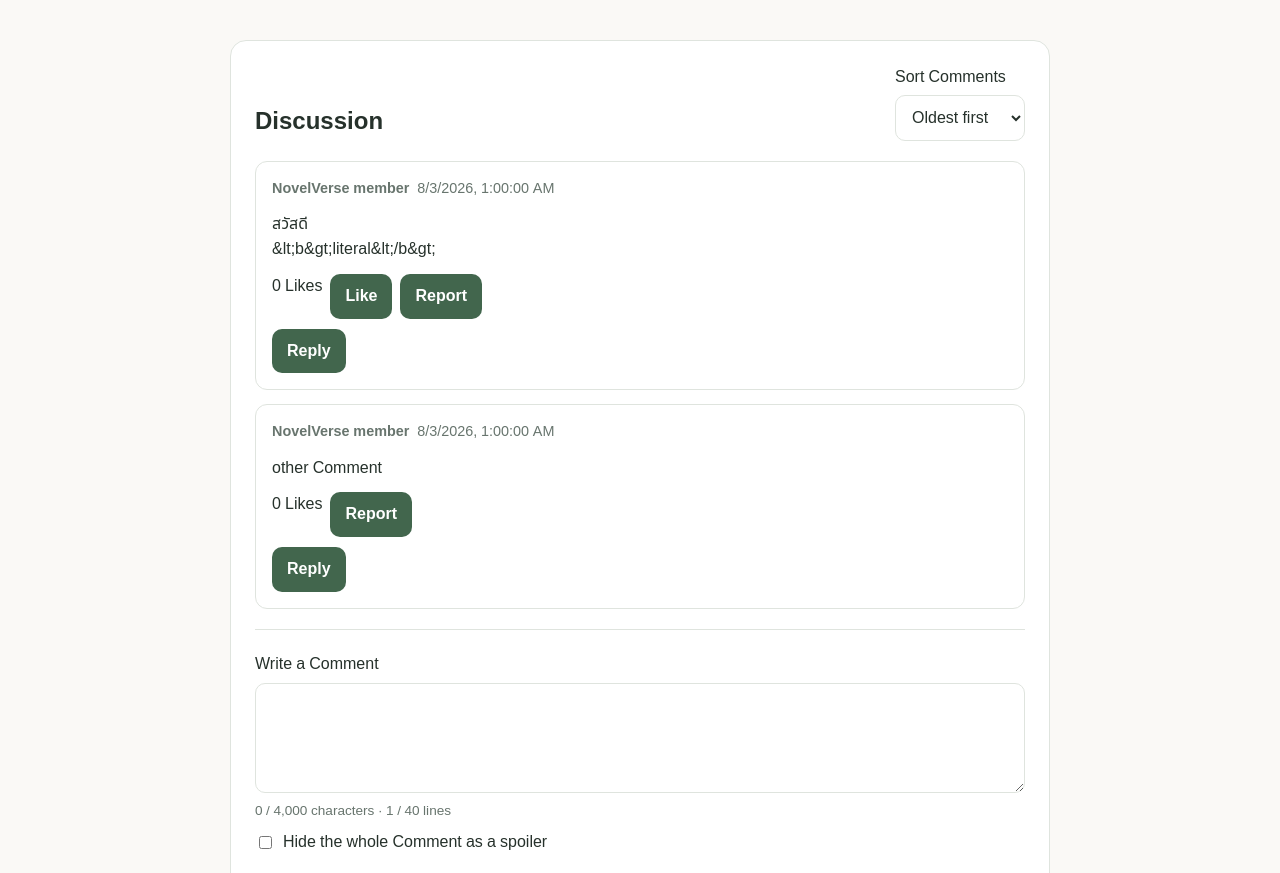
Test: session request isolation › lets an unrelated report finish without invalidating an in-flight Like
Click the button with aria-label "Like Comment".
click(361, 296)  # box [330,274,392,318]
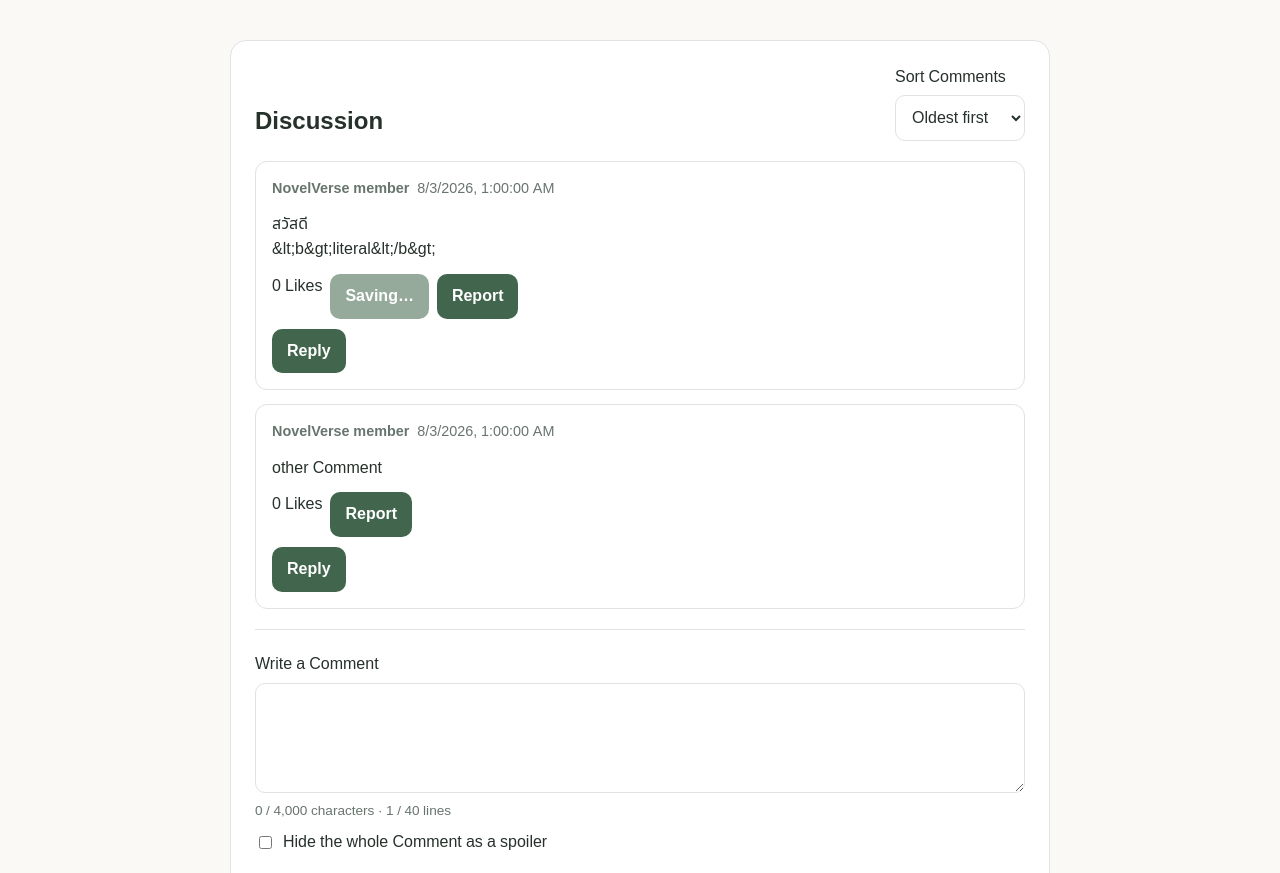
Click the button "Report" below "other Comment".
click(371, 515)  # box [330,492,412,537]
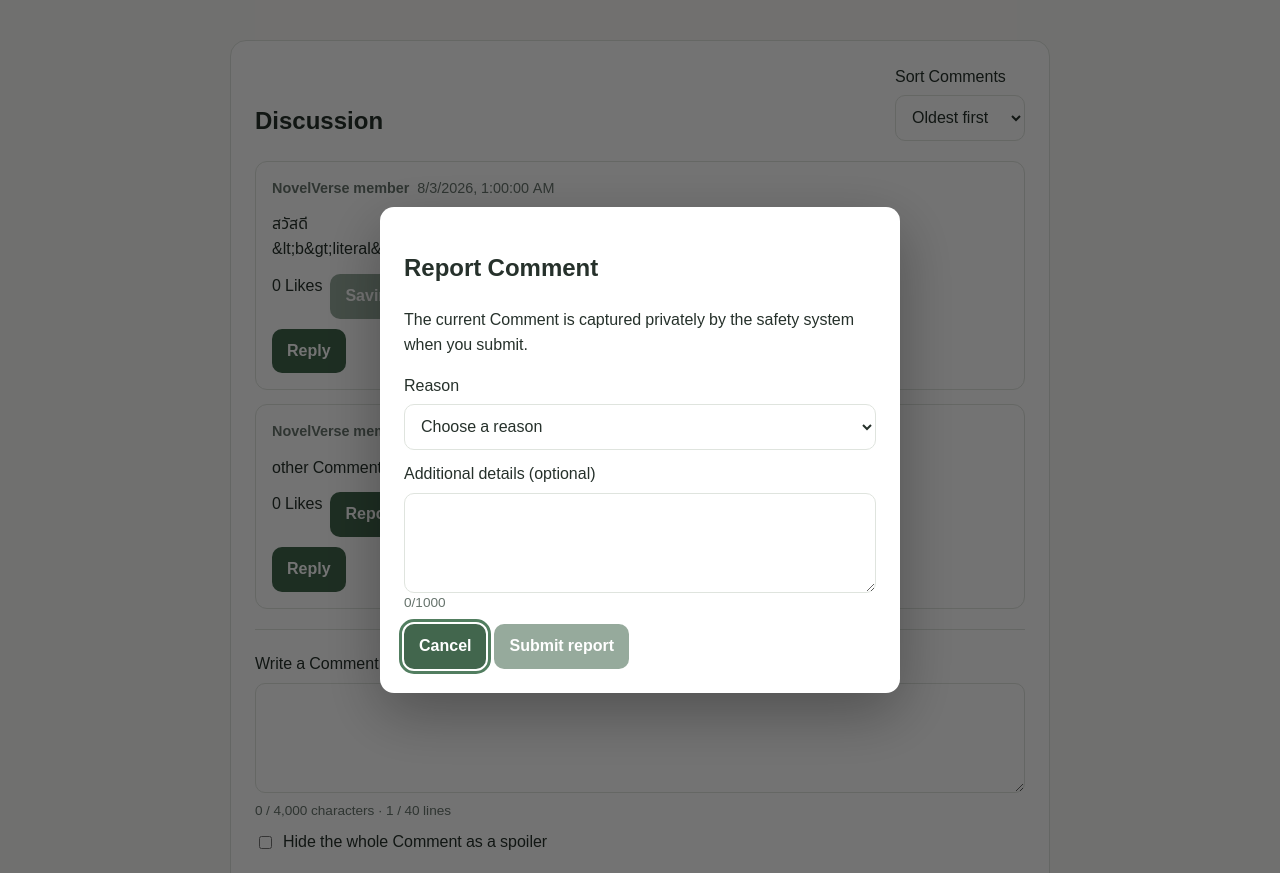
Select "Spam" in the dropdown labelled "Reason" at {"x": 640, "y": 427}, box [404,404,876,450]
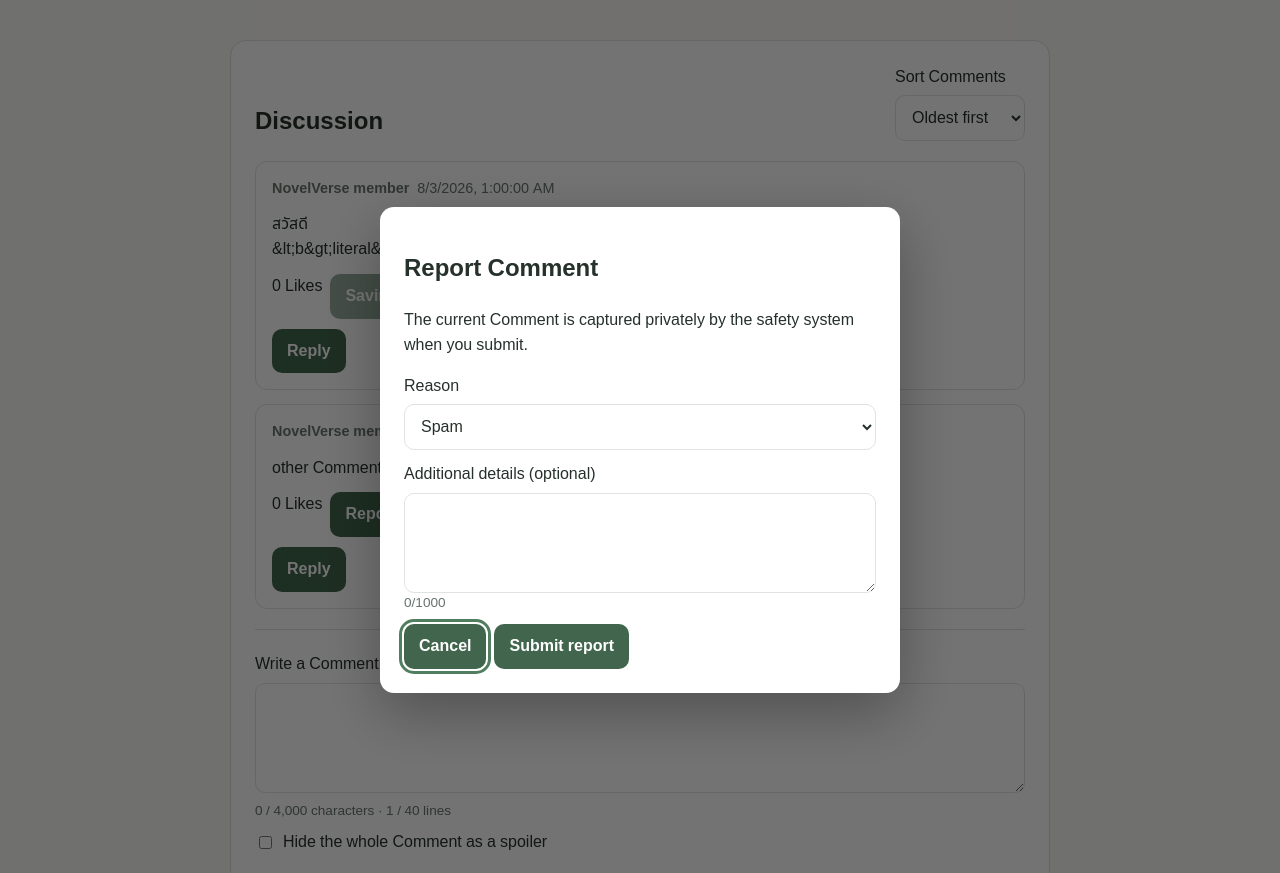
Click the button "Submit report".
click(562, 647)  # box [494,624,629,669]
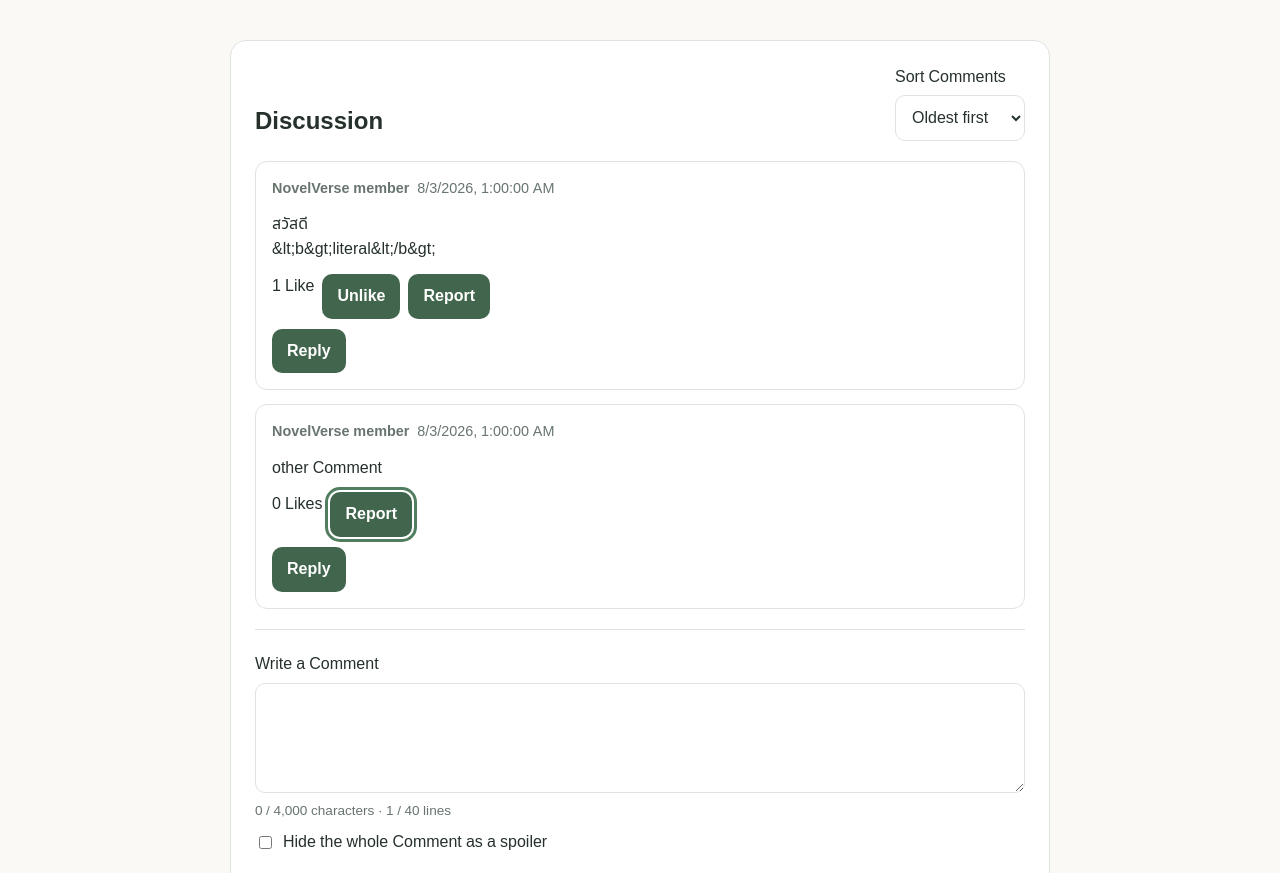
Expected: the button with aria-label "Unlike Comment" is shown, [322,274,400,318]
Expected: the text named "1 Likes" is shown, [272,274,314,298]
